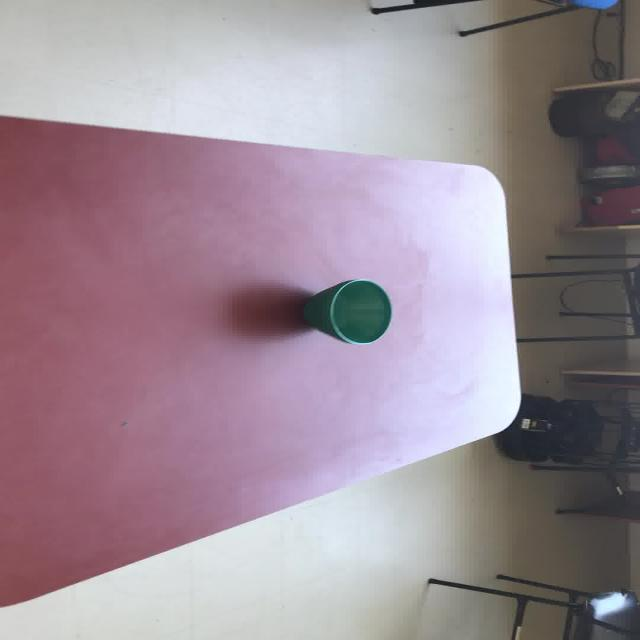bowl: (301, 277, 392, 345)
